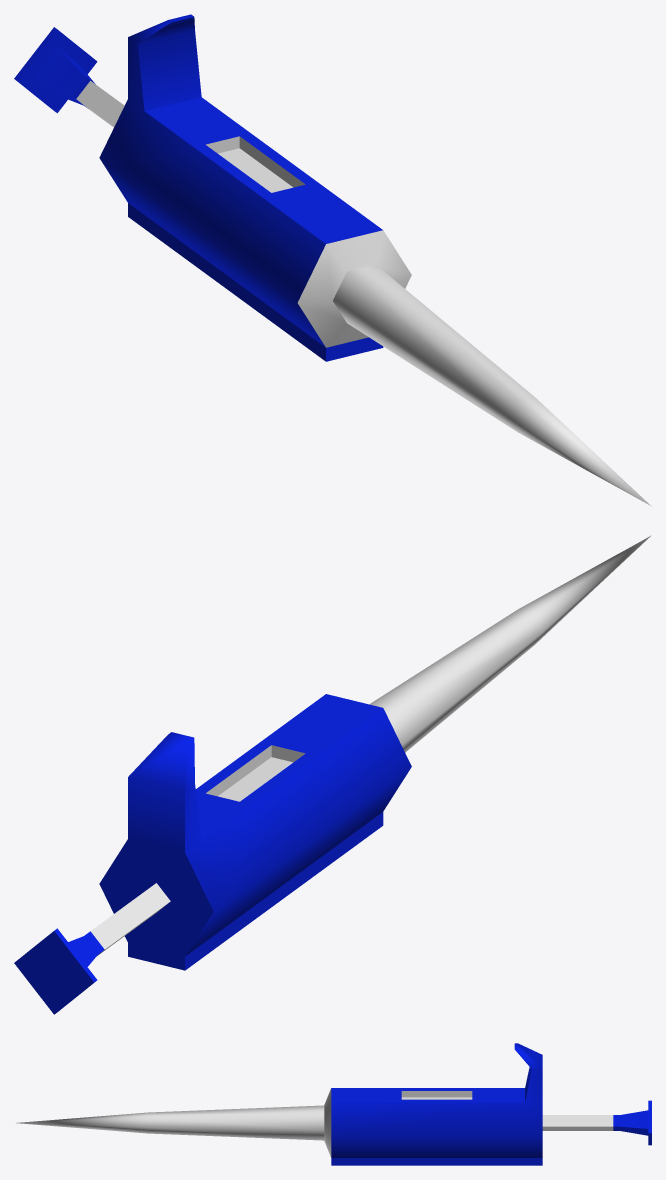
Rendered from ピペット.fbx.
3 views of the same model, one above another, from view 1: azimuth 30°, elevation 25°; view 2: azimuth 150°, elevation 25°; view 3: azimuth 270°, elevation 25° (orthographic). The views are drawn at different scales.
Parts seen in each view (by area): view 1: body, handle; view 2: body, handle; view 3: body, handle.
Boxes of the visible parts, bbox=[...] form: body: bbox=[99, 14, 651, 506]; handle: bbox=[14, 27, 124, 127]; body: bbox=[99, 535, 651, 970]; handle: bbox=[14, 883, 170, 1014]; body: bbox=[16, 1043, 542, 1165]; handle: bbox=[542, 1100, 651, 1145].
Bounding box in the file's own units: 2 × 3.5 × 18.1.
